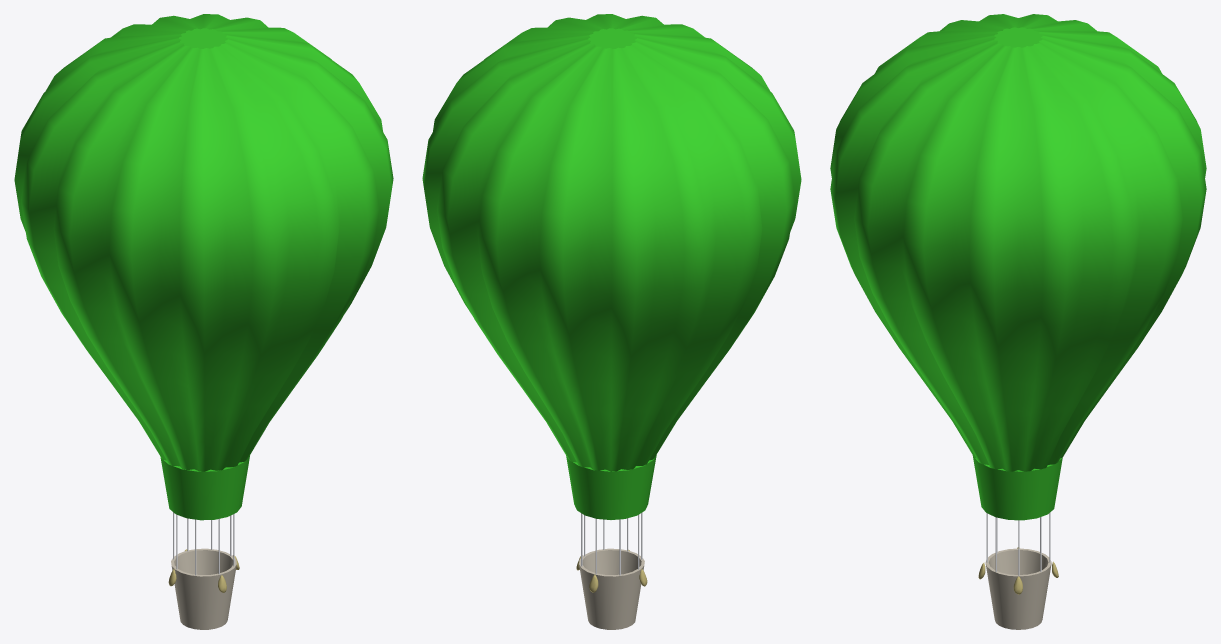
Rendered from balloon.fbx.
3 renders of one model, left to right at view 1: azimuth 30°, elevation 25°; view 2: azimuth 150°, elevation 25°; view 3: azimuth 270°, elevation 25°, orthographic.
Parts seen in each view (by area): view 1: balloon, basket; view 2: balloon, basket; view 3: balloon, basket.
Part boxes in pixels (x1,y1,x2,y2): balloon: (14, 14, 393, 520); basket: (171, 548, 236, 629); balloon: (422, 14, 801, 519); basket: (579, 548, 644, 629); balloon: (830, 14, 1206, 520); basket: (985, 548, 1051, 629).
Bounding box in the file's own units: 5857 × 10000 × 5857.
